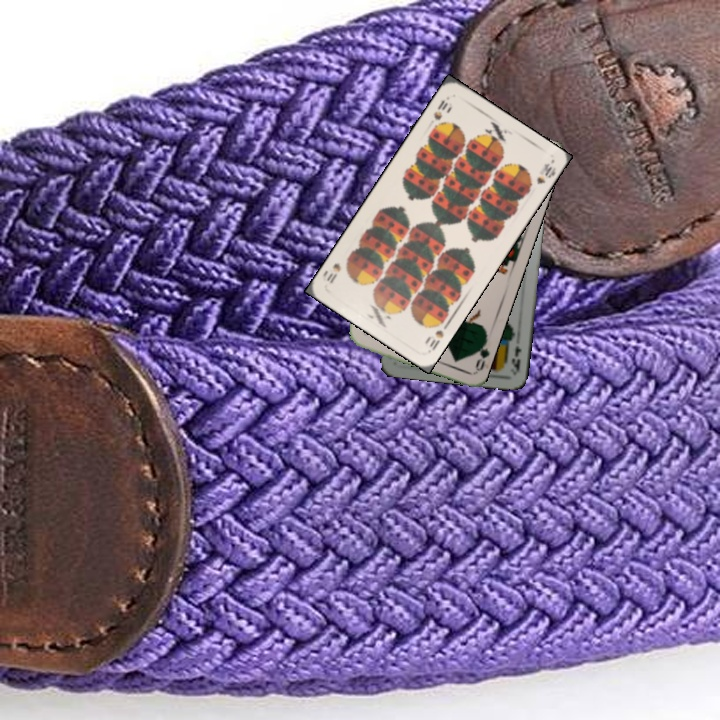EK: (507, 342, 524, 375)
GO: (469, 332, 491, 373)
S10: (424, 316, 452, 354), (429, 95, 450, 123)
